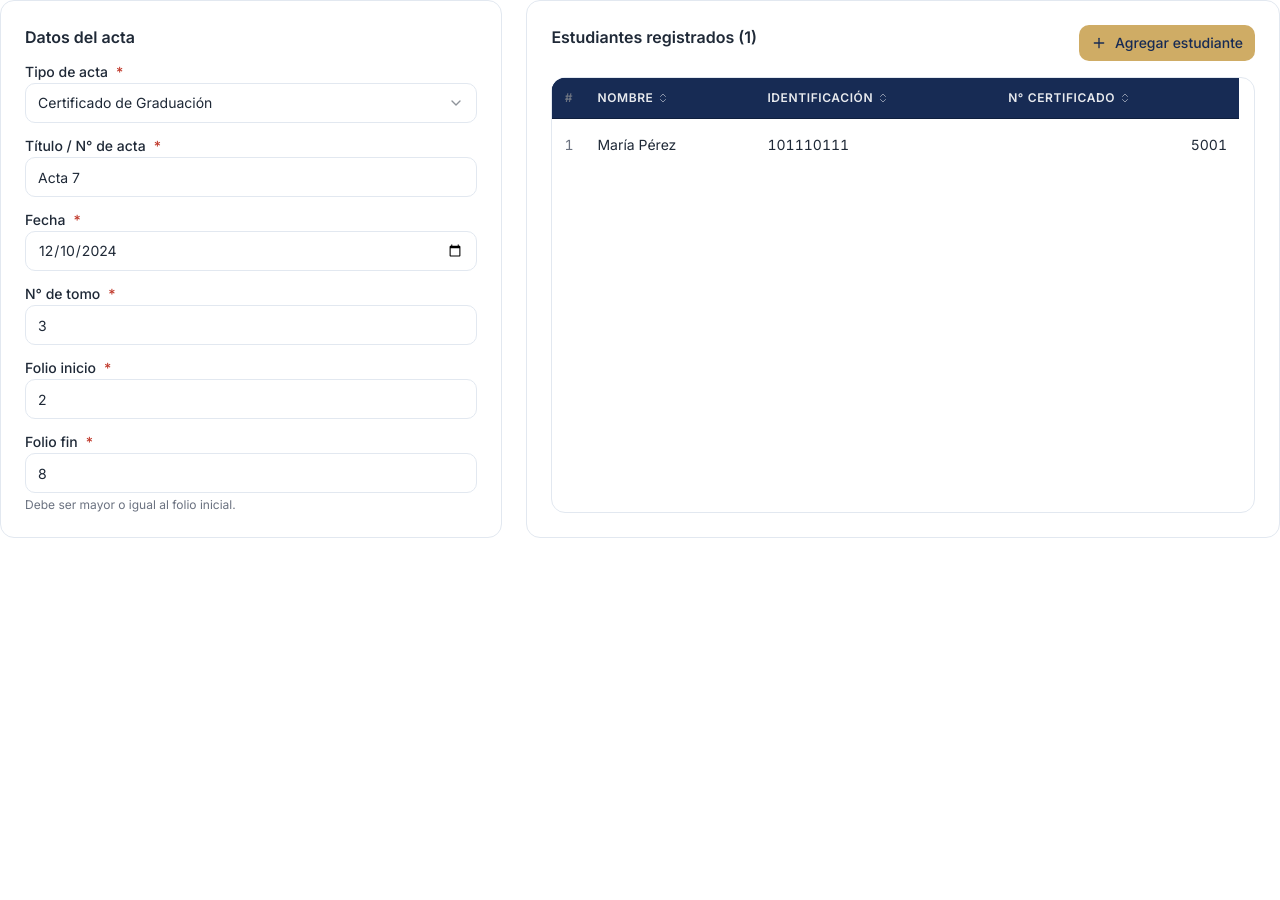
Test: DetalleActa: modal Agregar estudiante › agrega un estudiante, refresca y cierra el modal
Click the button "Agregar estudiante" at [1167, 43], box [1079, 25, 1255, 61]
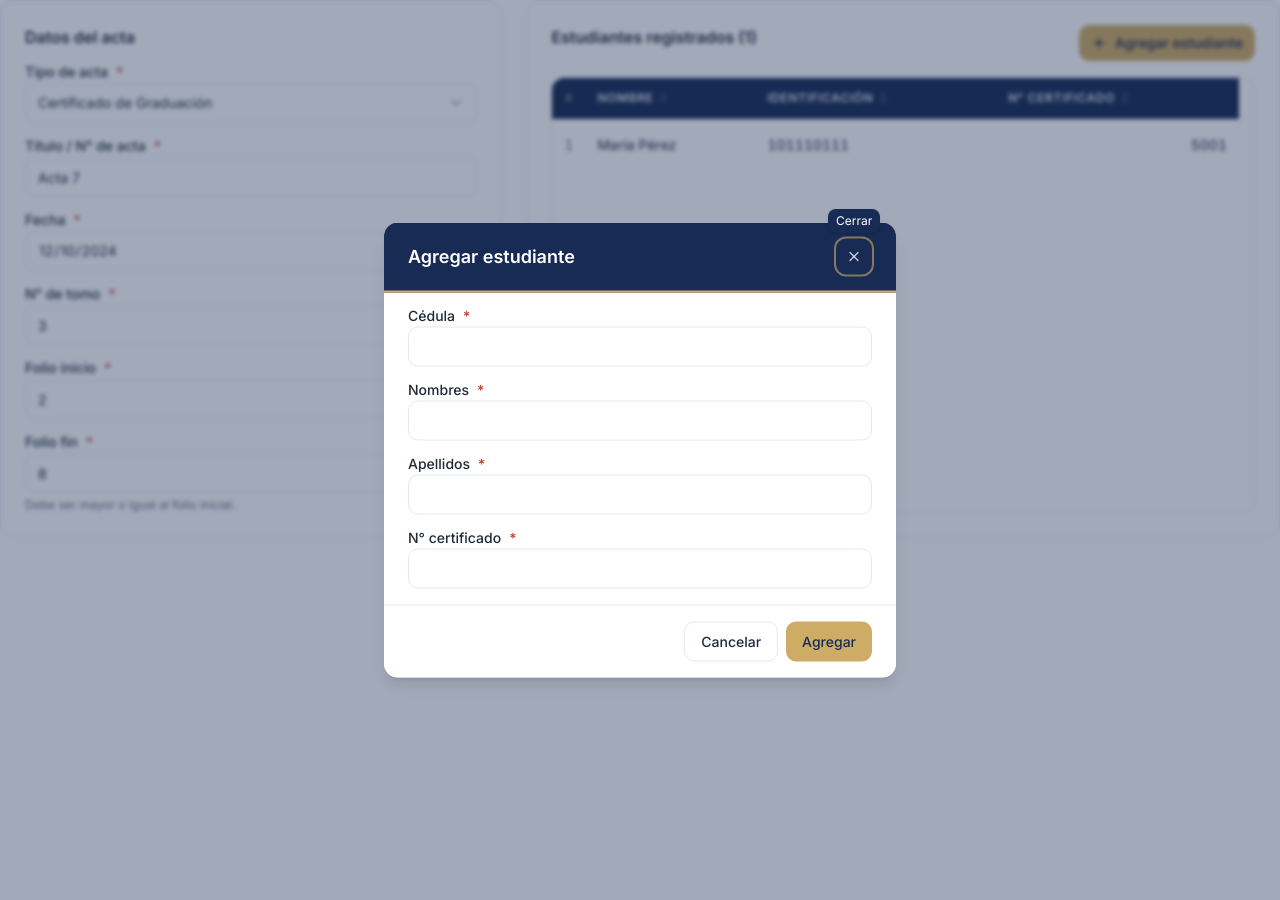
Type "202220222" into the field labelled "Cédula *" at [640, 346], box [408, 326, 872, 366]
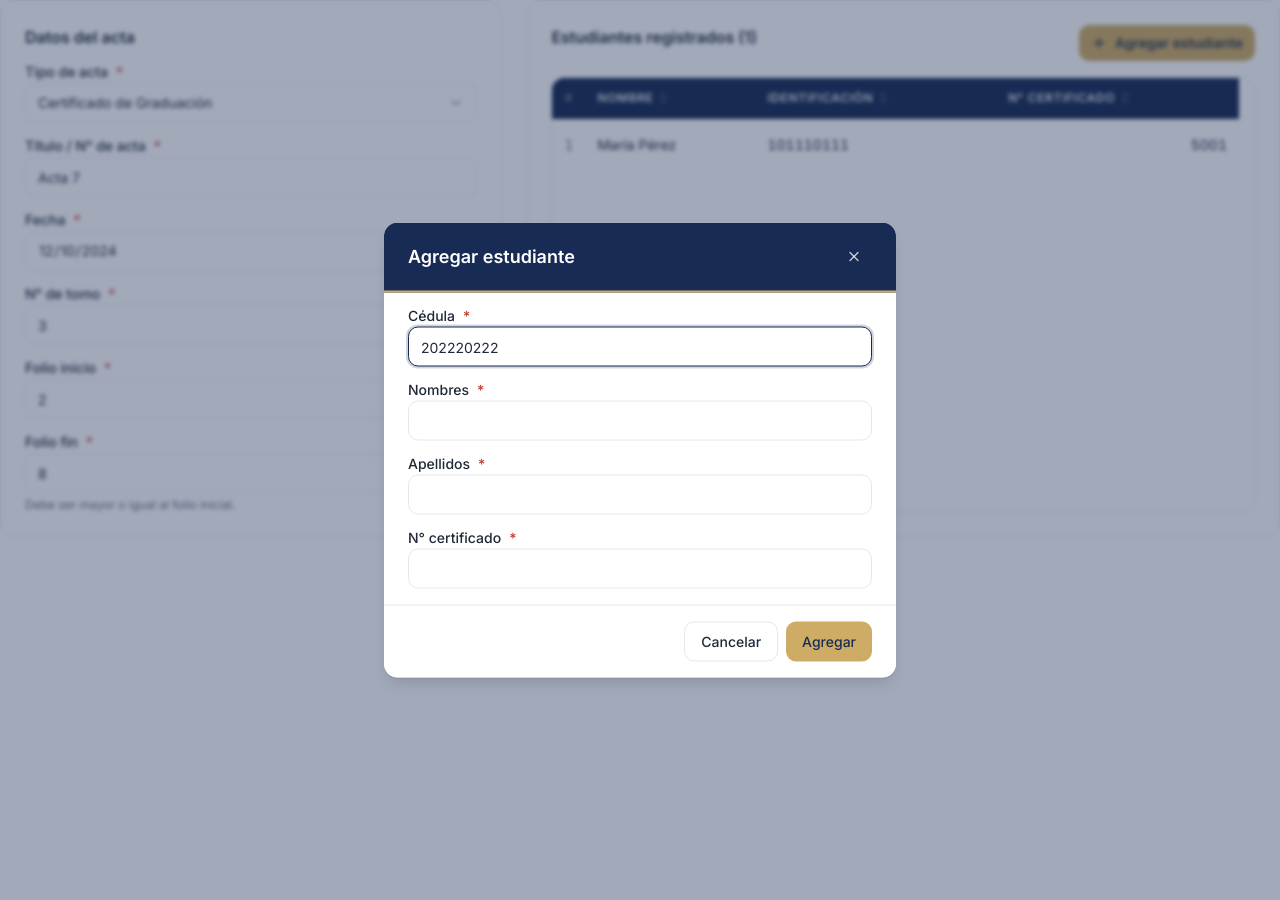
Type "Luis" into the field labelled "Nombres *" at [640, 420], box [408, 400, 872, 440]
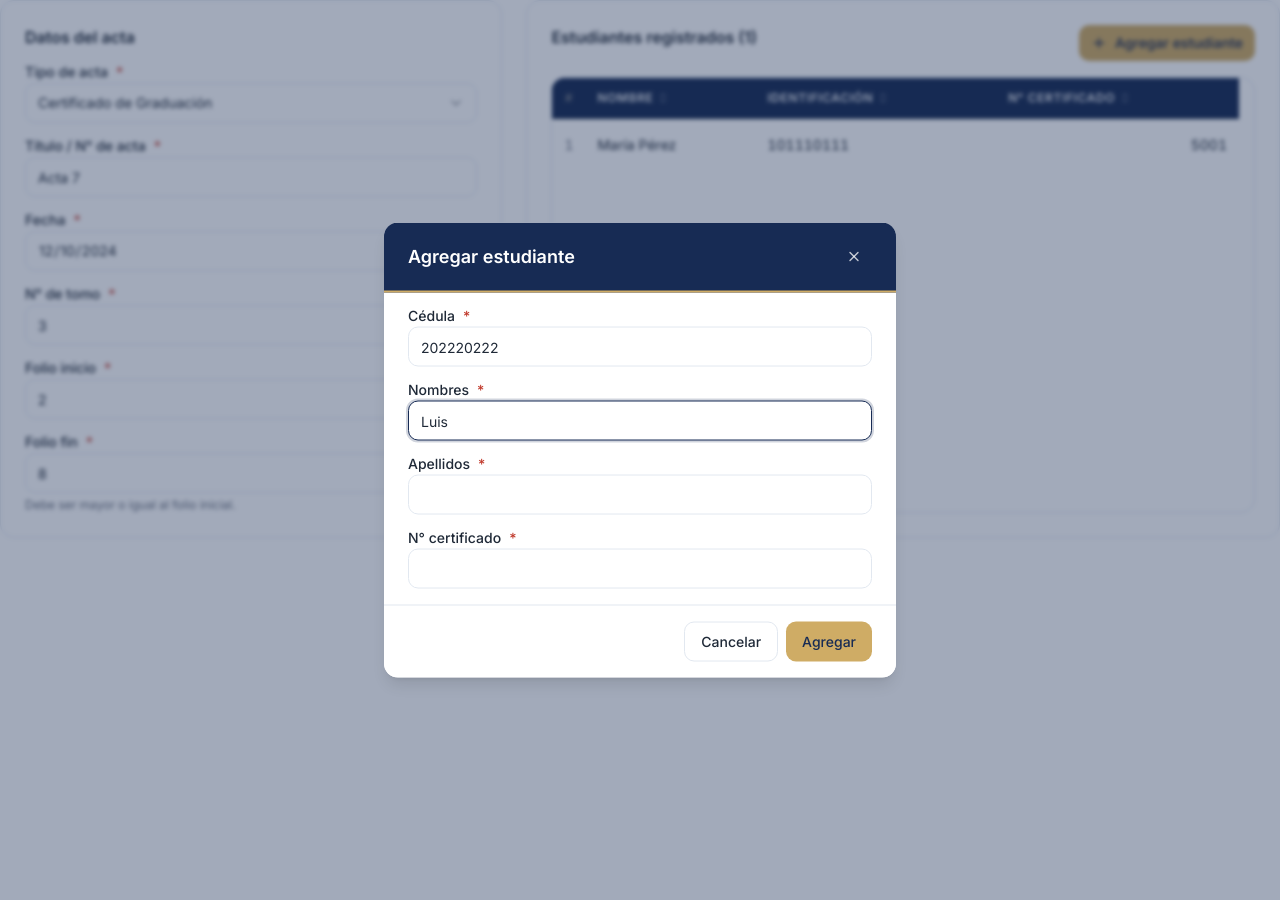
Type "Mora" into the field labelled "Apellidos *" at [640, 494], box [408, 474, 872, 514]
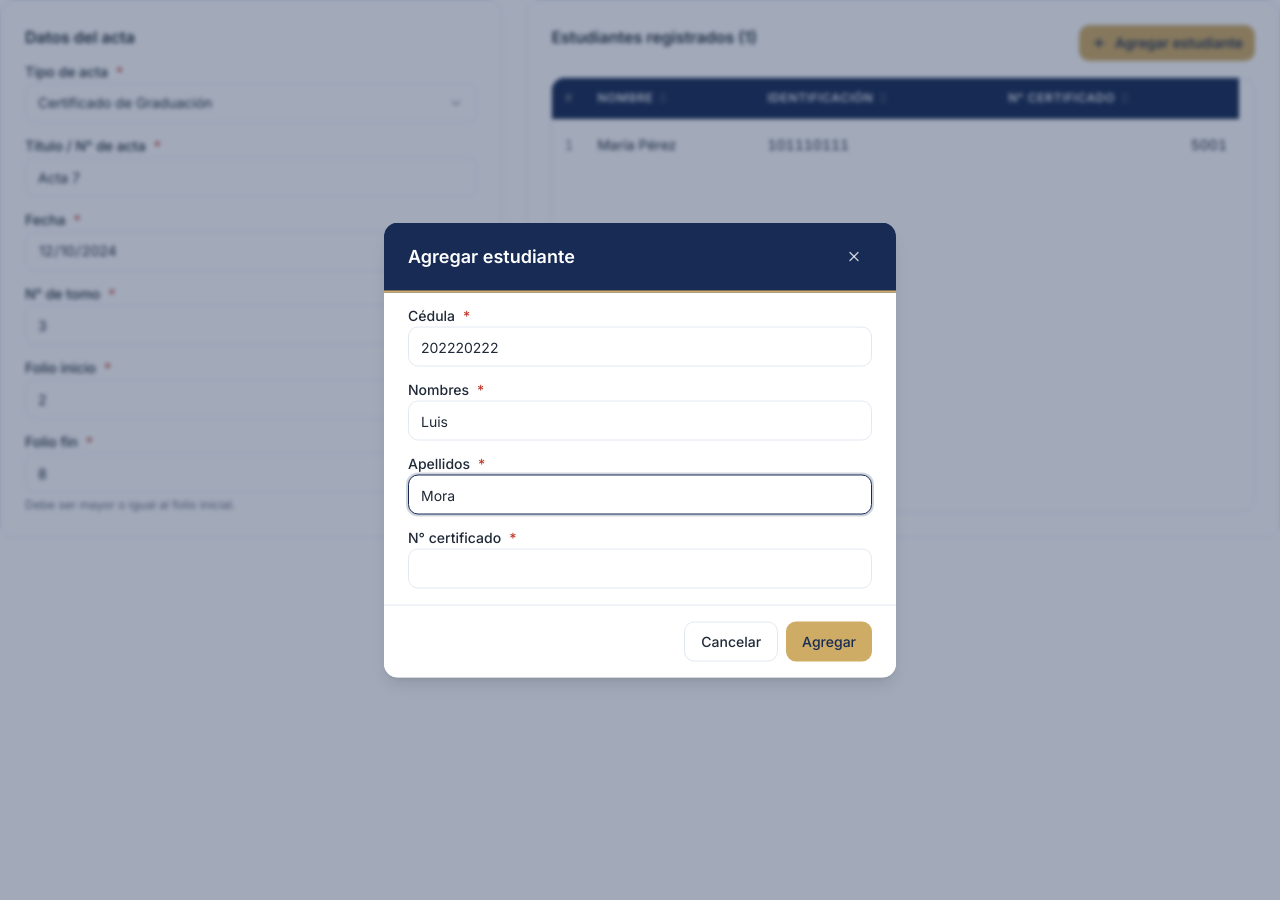
Type "5002" into the number field labelled "N° certificado *" at [640, 568], box [408, 548, 872, 588]
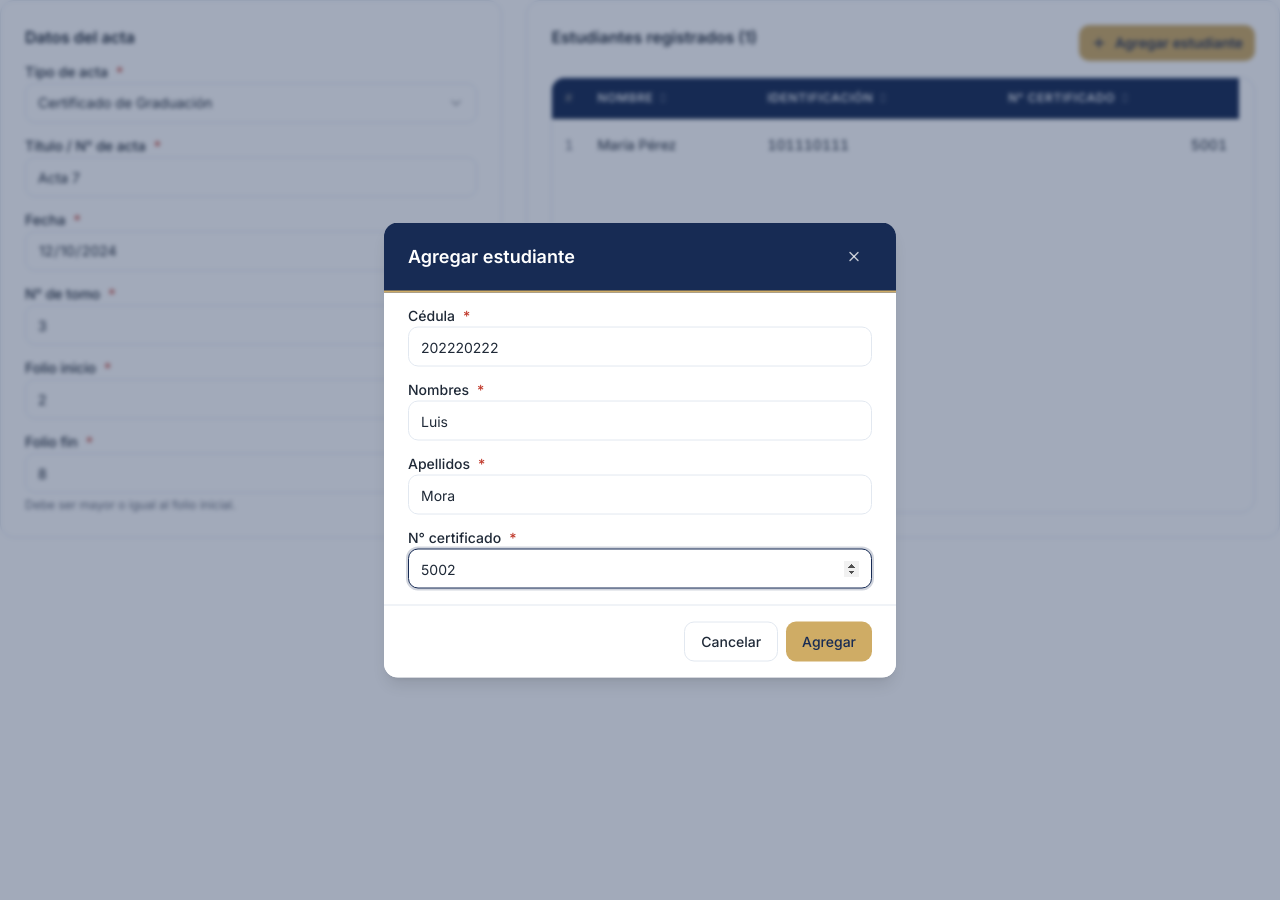
Click the button "Agregar" at [829, 642], box [786, 622, 872, 662]
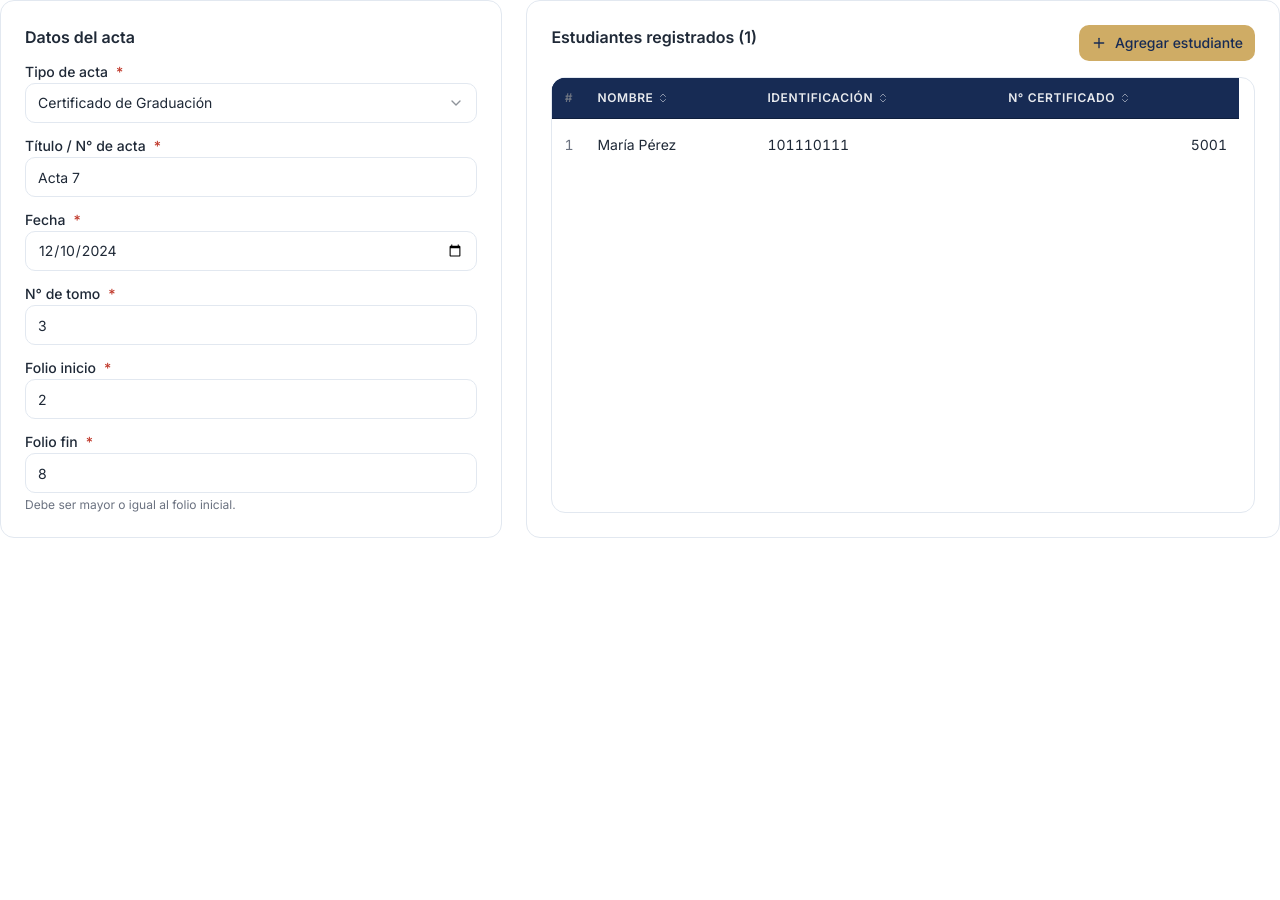
Now the dialog is gone
